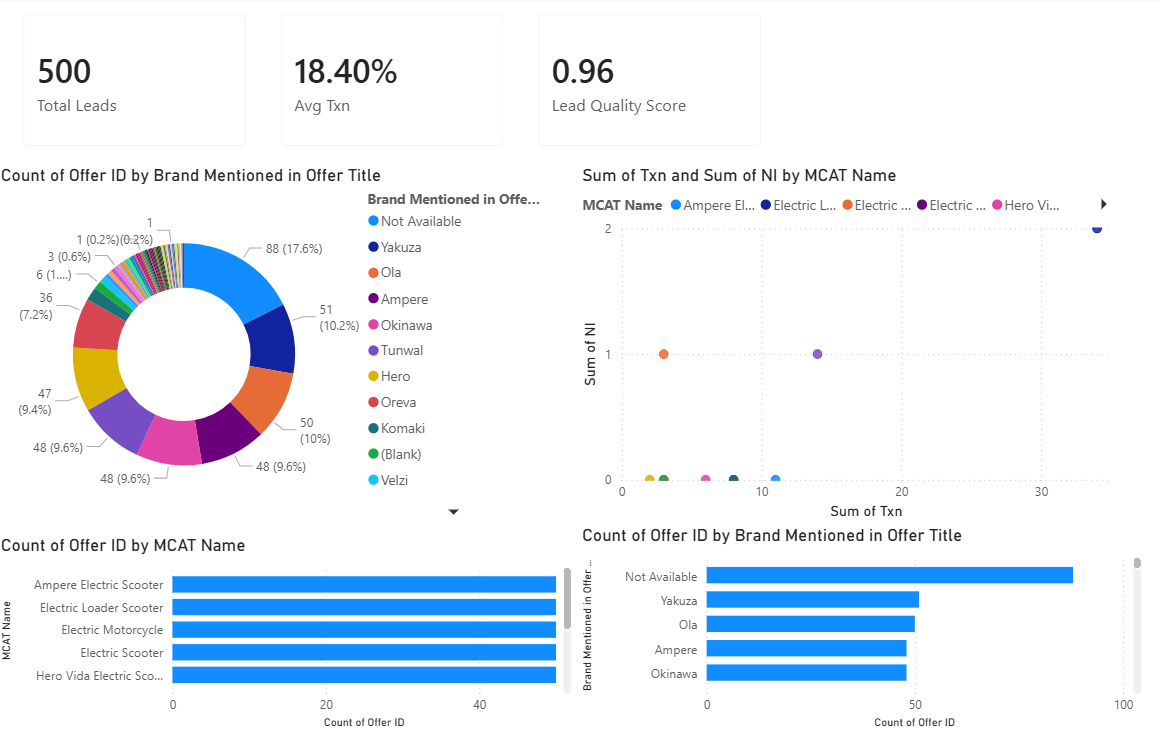

The page's visual inventory and layout, read from the dashboard file:
{"tool":"powerbi","page":{"name":"Demand vs Supply Analysis","canvas":[1280,720],"ordinal":2},"visuals":[{"type":"cardVisual","fields":{"Data":["Buylead Check.Total Leads"]},"box":[9.6,0,252.5,163.3],"z":0},{"type":"cardVisual","fields":{"Data":["Buylead Check.Avg Txn"]},"box":[262.1,0,252.5,163.3],"z":1000},{"type":"cardVisual","fields":{"Data":["Buylead Check.Lead Quality Score"]},"box":[513.2,0,252.5,163.3],"z":2000},{"type":"donutChart","fields":{"Category":["Buylead Check.Brand Mentioned in Offer Title"],"Y":["CountNonNull(Buylead Check.Offer ID)"]},"box":[0,163.3,535.2,352.7],"z":3000},{"type":"barChart","fields":{"Category":["Buylead Check.Brand Mentioned in Offer Title"],"Y":["CountNonNull(Buylead Check.Offer ID)"]},"box":[568.1,516,557.1,204.5],"z":4000},{"type":"barChart","fields":{"Category":["Buylead Check.MCAT Name"],"Y":["CountNonNull(Buylead Check.Offer ID)"]},"box":[0,525.6,568.1,194.9],"z":5000},{"type":"scatterChart","fields":{"X":["Sum(Buylead Check.Txn)"],"Y":["Sum(Buylead Check.NI)"],"Series":["Buylead Check.MCAT Name"]},"box":[568.6,163.9,534.4,352.2],"z":6000}]}

Visuals, with their boxes on the page's 1280x720 design canvas (x1, y1, x2, y2). These are canvas units, not pixel positions in the 1160x732 screenshot, which may show the page scaled, cropped or inside an application window:
cardVisual - Buylead Check.Total Leads: <box>10,0,262,163</box>
cardVisual - Buylead Check.Avg Txn: <box>262,0,515,163</box>
cardVisual - Buylead Check.Lead Quality Score: <box>513,0,766,163</box>
donutChart - Buylead Check.Brand Mentioned in Offer Title x CountNonNull(Buylead Check.Offer ID): <box>0,163,535,516</box>
barChart - Buylead Check.Brand Mentioned in Offer Title x CountNonNull(Buylead Check.Offer ID): <box>568,516,1125,720</box>
barChart - Buylead Check.MCAT Name x CountNonNull(Buylead Check.Offer ID): <box>0,526,568,720</box>
scatterChart - Sum(Buylead Check.Txn) x Sum(Buylead Check.NI): <box>569,164,1103,516</box>
